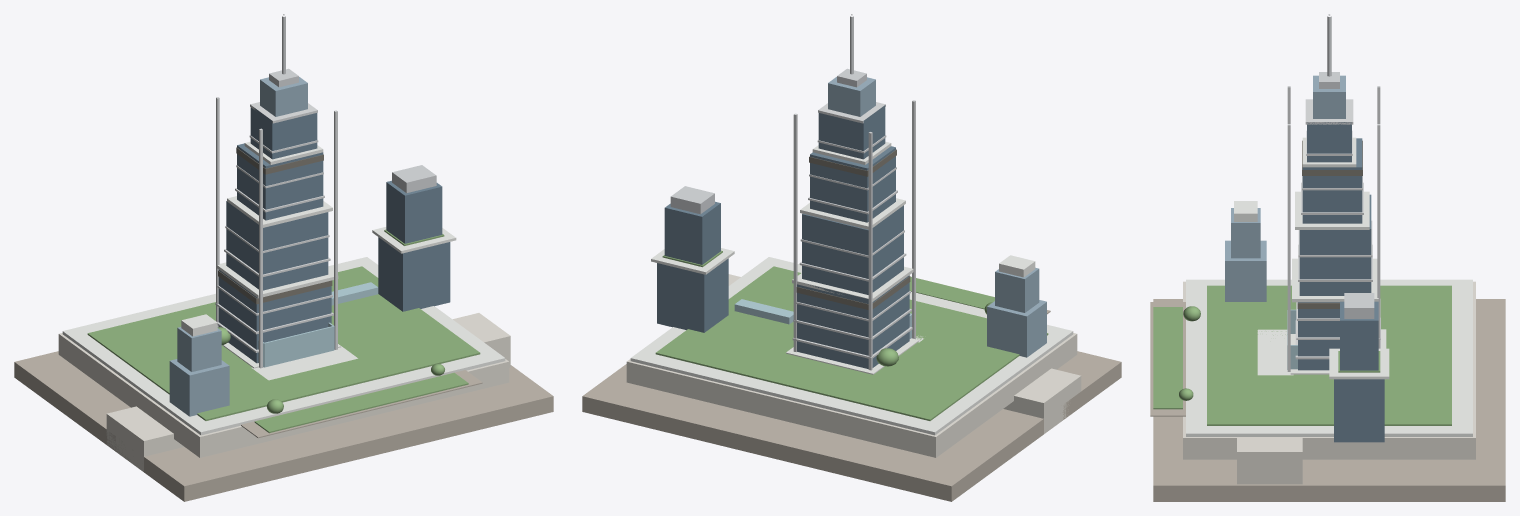
Rendered from tower.gltf.
3 views of the same model, side by side, from view 1: azimuth 30°, elevation 25°; view 2: azimuth 150°, elevation 25°; view 3: azimuth 270°, elevation 25° (orthographic). The views are drawn at different scales.
Visible parts, largest first — view 1: podium_base, podium_green_roof, podium_roof_slab, podium_mid, tower_main_sec2, tower_main_sec1, tower_a_lower, tower_main_sec3, plaza_green_band, tower_a_upper, commercial_low, tower_b_lower (+17 smaller); view 2: podium_base, podium_green_roof, podium_mid, podium_roof_slab, tower_main_sec2, tower_main_sec1, tower_a_lower, tower_main_sec3, tower_a_upper, tower_b_lower, commercial_low, tower_main_sec4 (+14 smaller); view 3: podium_green_roof, podium_base, podium_roof_slab, podium_mid, tower_main_sec2, tower_a_lower, hotel_wing, tower_main_sec3, plaza_green_band, tower_a_upper, tower_main_sec1, tower_b_lower (+15 smaller).
Part boxes in pixels (x1,y1,x2,y2): podium_base: [14, 351, 553, 501]; podium_green_roof: [87, 266, 480, 420]; podium_roof_slab: [62, 257, 505, 435]; podium_mid: [58, 333, 509, 457]; tower_main_sec2: [226, 201, 328, 290]; tower_main_sec1: [218, 270, 331, 363]; tower_a_lower: [378, 237, 450, 311]; tower_main_sec3: [237, 143, 323, 220]; plaza_green_band: [254, 372, 468, 433]; tower_a_upper: [386, 180, 442, 243]; commercial_low: [106, 406, 184, 471]; tower_b_lower: [169, 359, 229, 416]; podium_base: [582, 351, 1121, 501]; podium_green_roof: [655, 266, 1048, 420]; podium_mid: [626, 333, 1077, 457]; podium_roof_slab: [630, 257, 1073, 435]; tower_main_sec2: [802, 205, 903, 294]; tower_main_sec1: [797, 275, 909, 368]; tower_a_lower: [657, 258, 728, 332]; tower_main_sec3: [810, 146, 895, 222]; tower_a_upper: [664, 201, 720, 264]; tower_b_lower: [987, 300, 1046, 357]; commercial_low: [1003, 368, 1081, 433]; tower_main_sec4: [818, 105, 885, 159]; podium_green_roof: [1207, 285, 1451, 425]; podium_base: [1153, 299, 1505, 501]; podium_roof_slab: [1186, 279, 1472, 436]; podium_mid: [1183, 281, 1475, 459]; tower_main_sec2: [1299, 194, 1371, 295]; tower_a_lower: [1334, 379, 1384, 442]; hotel_wing: [1237, 437, 1302, 484]; tower_main_sec3: [1302, 138, 1362, 223]; plaza_green_band: [1153, 307, 1182, 409]; tower_a_upper: [1340, 301, 1378, 370]; tower_main_sec1: [1298, 302, 1339, 370]; tower_b_lower: [1225, 240, 1266, 301].
Size of the model in its own units: 148 by 146 by 119.
